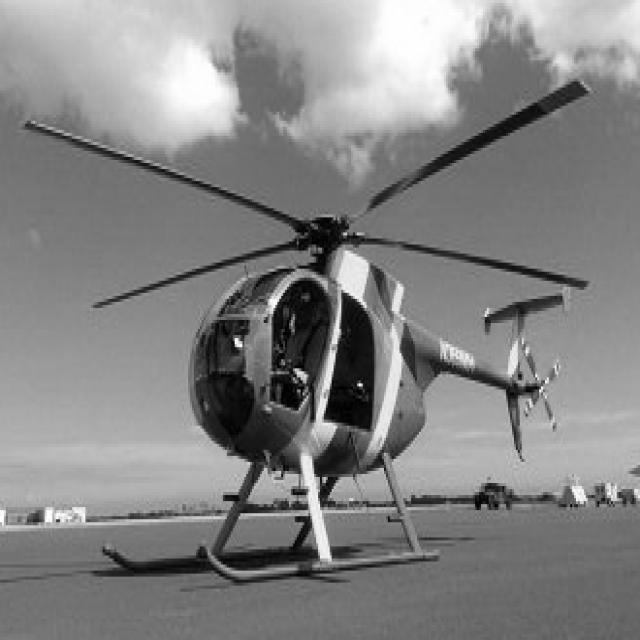helicopter: (73, 67, 589, 599)
